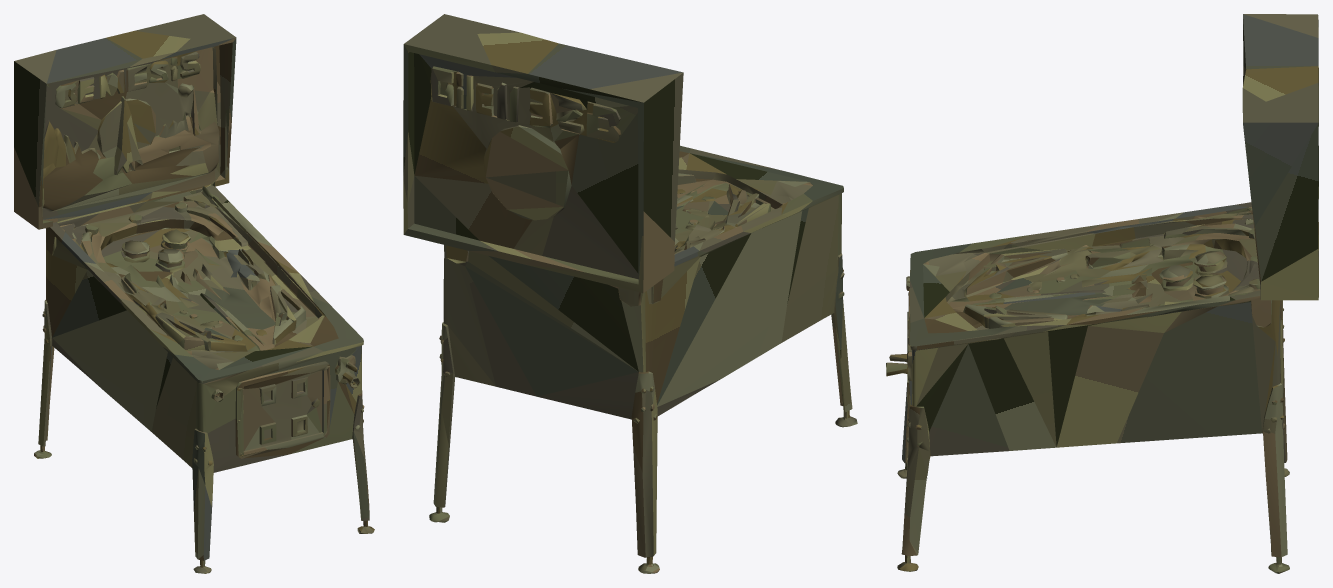
File: pinball2.glb
3 views of the same model, side by side, from view 1: azimuth 30°, elevation 25°; view 2: azimuth 150°, elevation 25°; view 3: azimuth 270°, elevation 25° (orthographic). The views are drawn at different scales.
Visible parts, largest first — view 1: Mesh_0; view 2: Mesh_0; view 3: Mesh_0.
Part boxes in pixels (x1,y1,x2,y2): Mesh_0: (14, 14, 374, 573); Mesh_0: (403, 14, 857, 573); Mesh_0: (886, 14, 1318, 573).
Size of the model in its own units: 0.978 by 1.9 by 1.64.
1 material, 1 textured.
